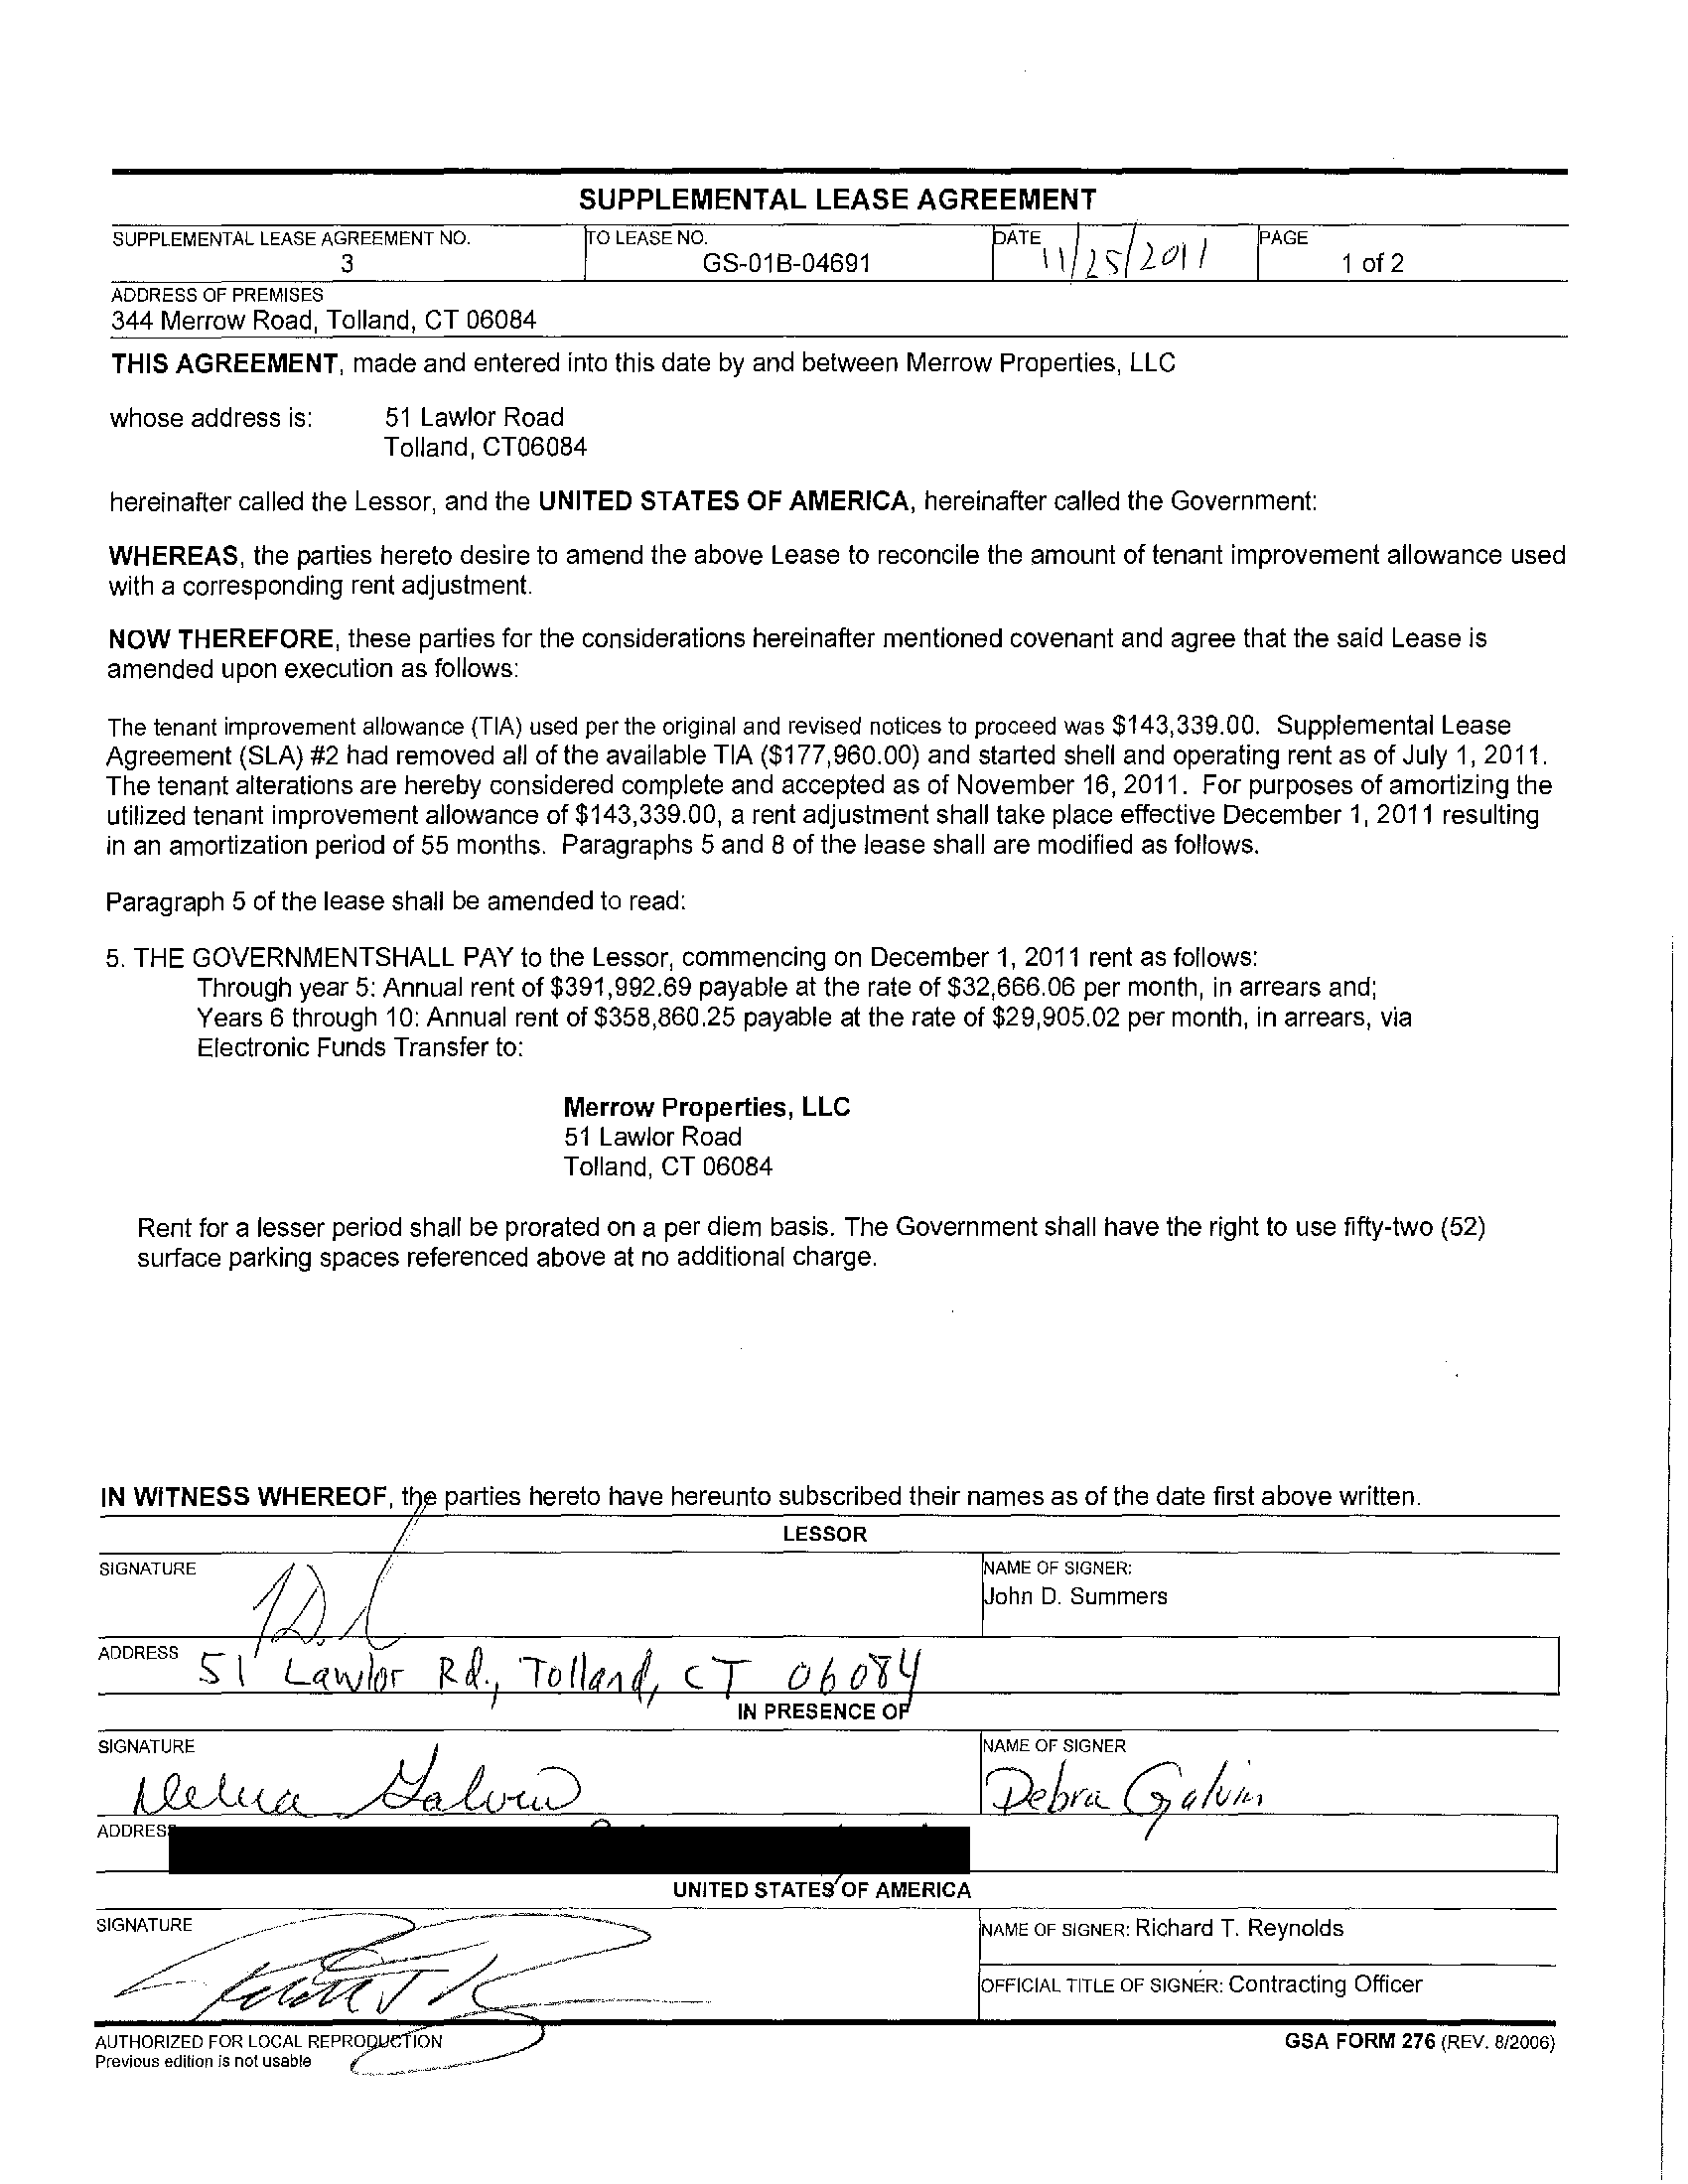handwritten: (98, 1899, 683, 2081), (190, 1640, 931, 1695), (98, 1751, 626, 1819), (973, 1750, 1310, 1844), (222, 1542, 496, 1652), (1039, 216, 1239, 294)
